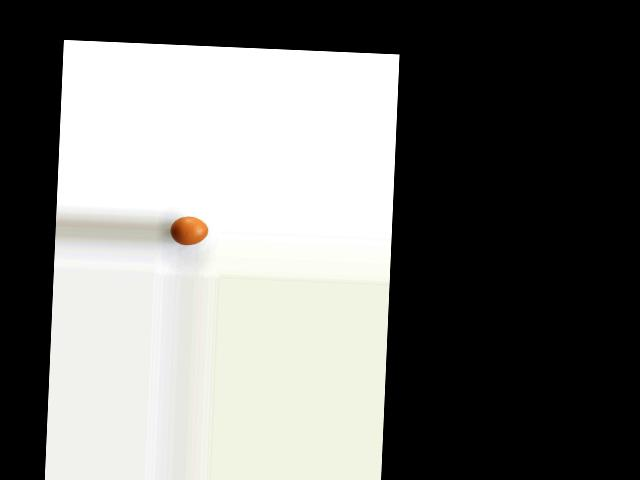egg: (169, 216, 208, 246)
